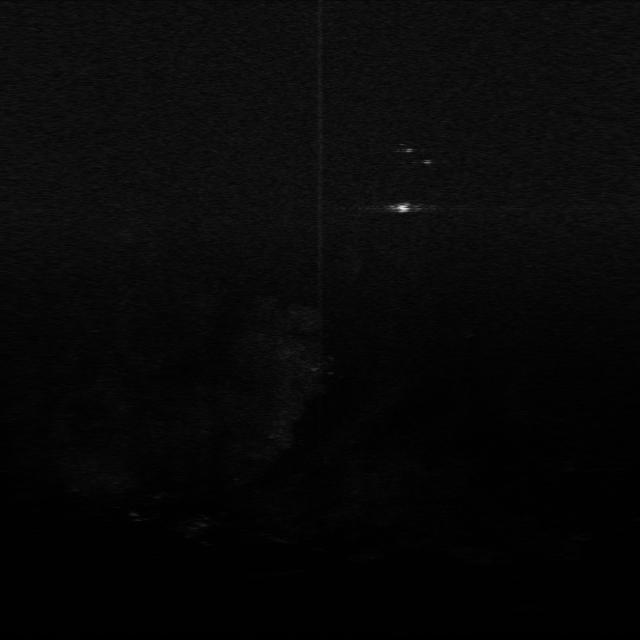rov: (390, 201, 416, 215)
